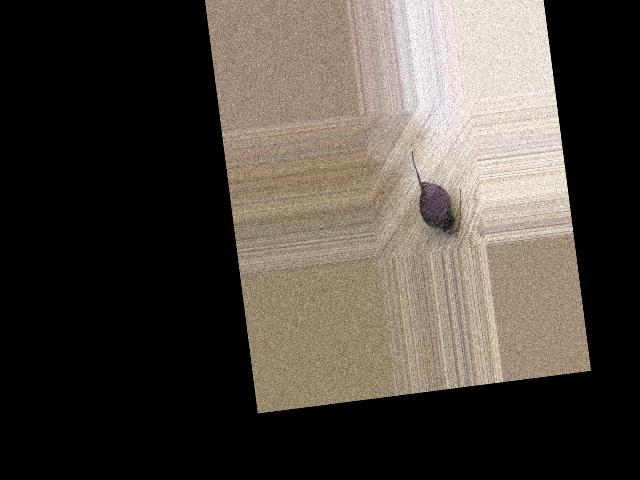beet: (410, 144, 465, 237)
